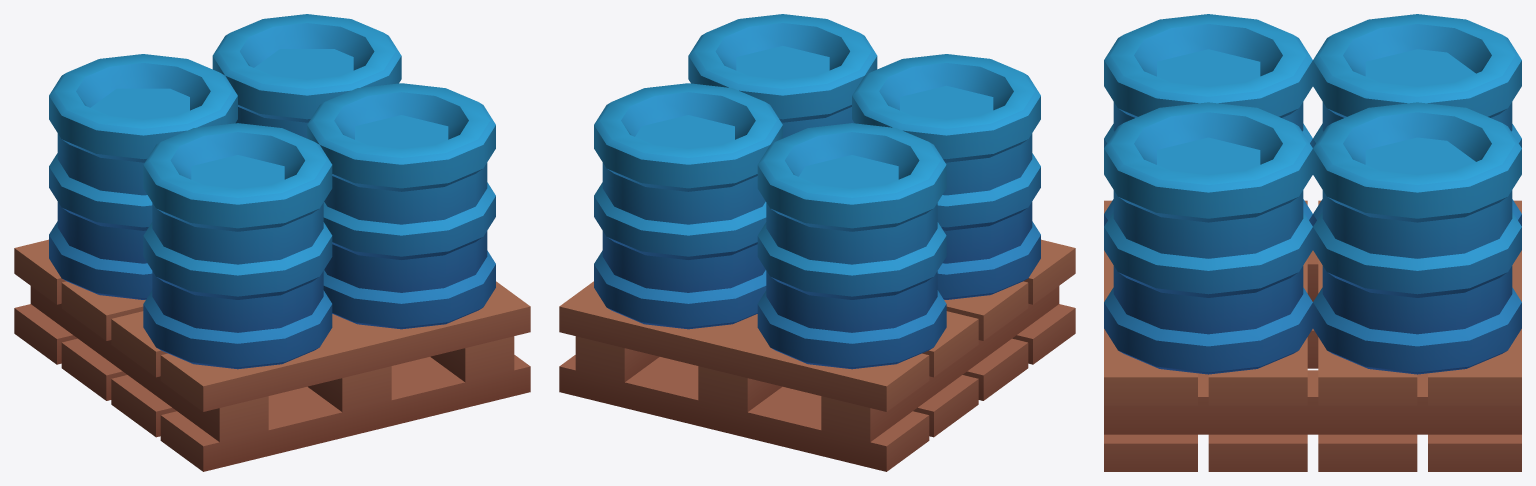
File: cc0-pallet-decorated-lod1.glb
3 views of the same model, side by side, from view 1: azimuth 30°, elevation 25°; view 2: azimuth 150°, elevation 25°; view 3: azimuth 270°, elevation 25° (orthographic). The views are drawn at different scales.
Visible parts, largest first — view 1: part_0; view 2: part_0; view 3: part_0.
Boxes of the visible parts, left/top/right/bottom form: part_0: left=14, top=14, right=530, bottom=471; part_0: left=559, top=14, right=1075, bottom=471; part_0: left=1104, top=14, right=1521, bottom=471.
Size of the model in its own units: 2 by 1.5 by 2.
1 material, 1 textured.
